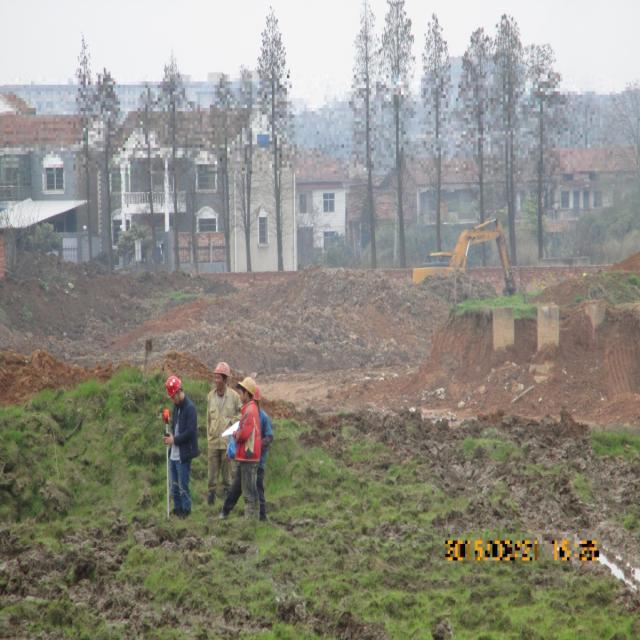excavator: (412, 216, 517, 297)
